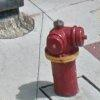a fire hydrant: (46, 20, 87, 97)
